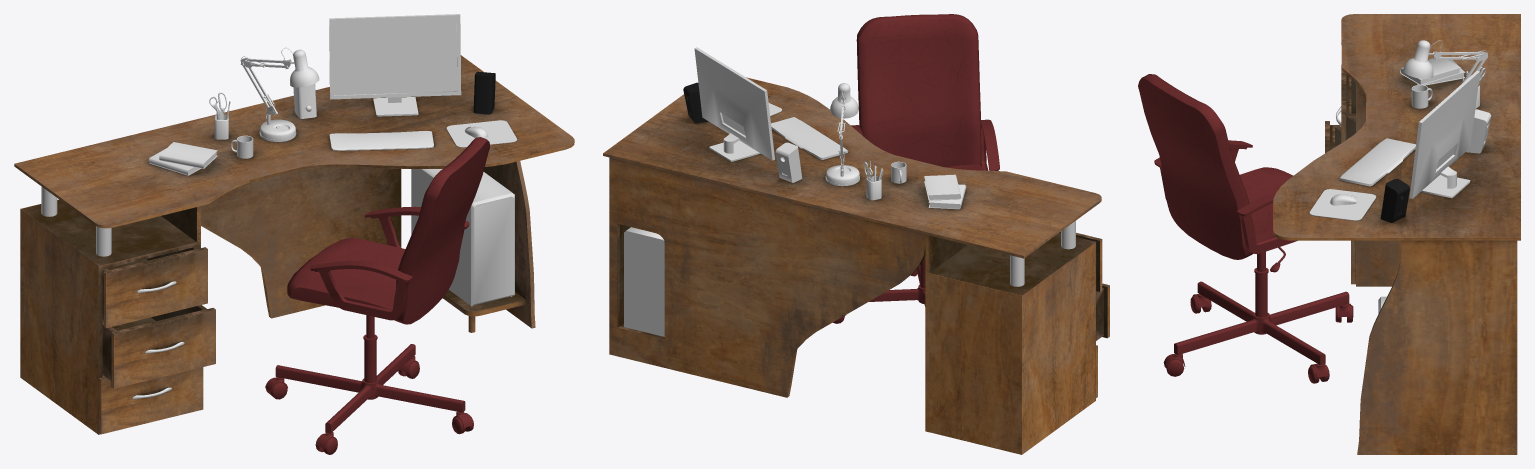
Rendered from TablePCAllComplect.fbx.
The picture shows the model from 3 angles, left to right: view 1: azimuth 30°, elevation 25°; view 2: azimuth 150°, elevation 25°; view 3: azimuth 270°, elevation 25°; orthographic projection. The views are drawn at different scales.
Parts seen in each view (by area): view 1: Desk, Chair, Monitor.001, Computer, Drawer02, Drawer01, Drawer03, Monitor, DeskLamp, Keyboard, Mat, Book01 (+3 smaller); view 2: Desk, Chair, Monitor, Computer, Keyboard, DeskLamp, Book01, Loudspeaker01, Desk.001, Drawer02, Loudspeaker02; view 3: Desk, Chair, Monitor, Keyboard, DeskLamp, Mat, Loudspeaker02, Drawer01, Book01, Loudspeaker01, Cup, Drawer02.
Part boxes in pixels (<box>): Desk: <box>14,55,574,434</box>; Chair: <box>265,137,489,454</box>; Monitor.001: <box>333,18,457,95</box>; Computer: <box>411,169,514,306</box>; Drawer02: <box>102,305,215,388</box>; Drawer01: <box>102,246,207,328</box>; Drawer03: <box>99,367,203,434</box>; Monitor: <box>329,14,461,116</box>; DeskLamp: <box>240,47,319,141</box>; Keyboard: <box>329,131,433,150</box>; Mat: <box>446,120,517,147</box>; Book01: <box>159,142,217,168</box>; Desk: <box>603,77,1101,454</box>; Chair: <box>833,14,999,323</box>; Monitor: <box>694,47,774,161</box>; Computer: <box>624,227,664,336</box>; Keyboard: <box>771,117,848,159</box>; DeskLamp: <box>825,83,859,186</box>; Book01: <box>924,174,960,200</box>; Loudspeaker01: <box>775,142,802,182</box>; Desk.001: <box>1010,221,1075,286</box>; Drawer02: <box>1096,283,1109,340</box>; Loudspeaker02: <box>683,82,708,123</box>; Desk: <box>1273,14,1520,454</box>; Chair: <box>1138,74,1353,383</box>; Monitor: <box>1409,70,1479,198</box>; Keyboard: <box>1339,138,1415,186</box>; DeskLamp: <box>1403,40,1487,82</box>; Mat: <box>1309,189,1376,220</box>; Loudspeaker02: <box>1380,178,1409,222</box>; Drawer01: <box>1341,65,1355,142</box>; Book01: <box>1400,56,1460,84</box>; Loudspeaker01: <box>1466,109,1491,153</box>; Cup: <box>1411,85,1432,108</box>; Drawer02: <box>1325,121,1341,153</box>.
Bounding box in the file's own units: 213 × 139 × 154.
